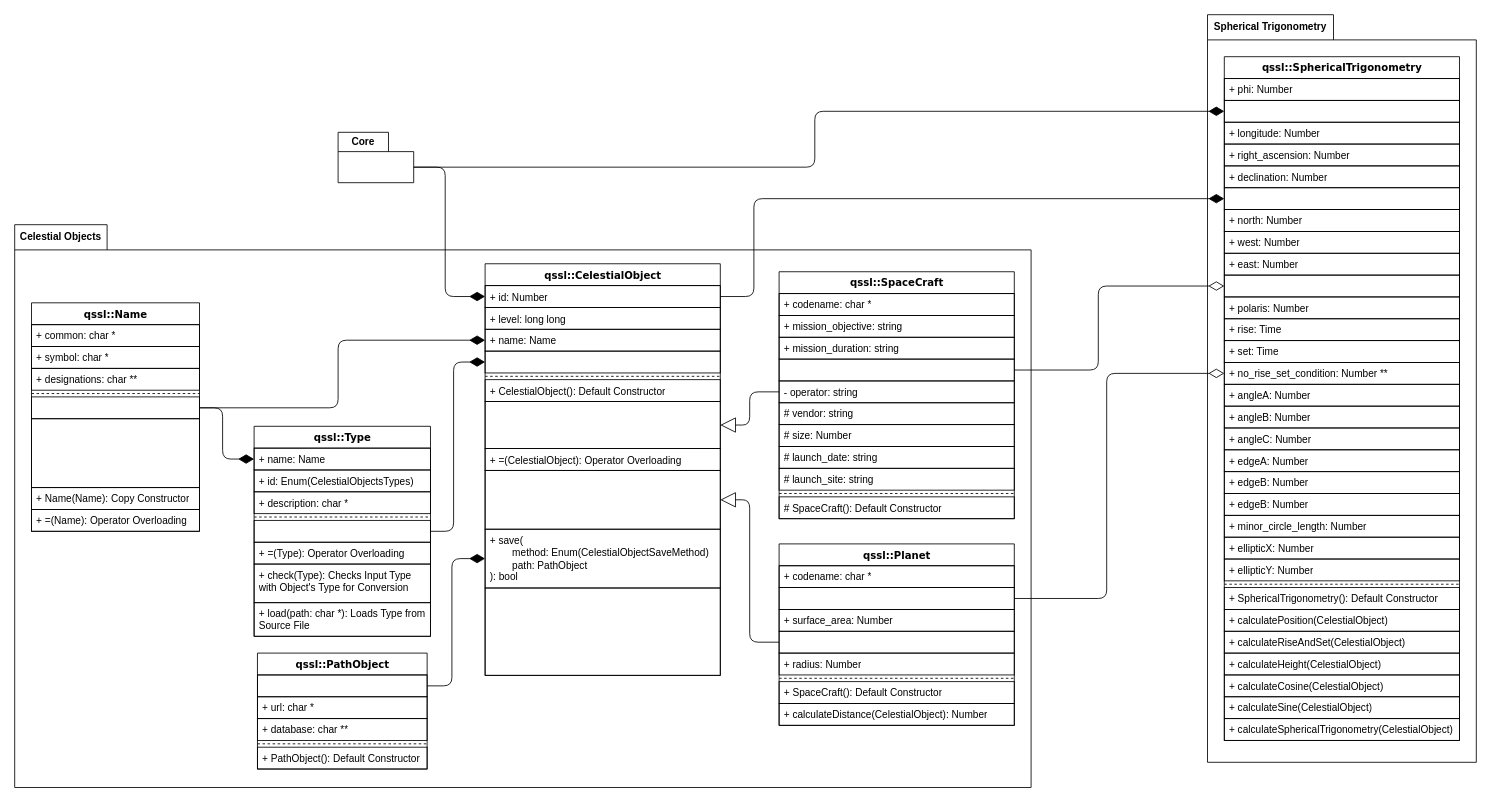
The diagram is 1491 pixels wide and 802 high, and some of its shapes have lost their labels. The shapes that lost their labels are listed below. From the top down, each one's centre as x and y in pixels, then its label:
point (1341, 111): + latitude: Number
point (1341, 198): + height: Number
point (1341, 285): + south: Number
point (602, 361): + type: Type
point (896, 369): + mission_type: string
point (115, 407): + Name(): Default Constructor
point (602, 425): + CelestialObject( CelestialObject ): Copy Constructor
point (115, 453): + Name( common, symbol, designations ): Parametric Constructor
point (602, 499): + load( method: Enum(CelestialObjectLoadMethod) path: PathObject ): bool
point (341, 531): + Type(): Default Constructor
point (896, 598): + density: Number
point (602, 631): + create( name: Name, type: Type, id: Number, parent: CelestialObject ): bool
point (896, 641): + volume: Number
point (342, 685): + path: char *
